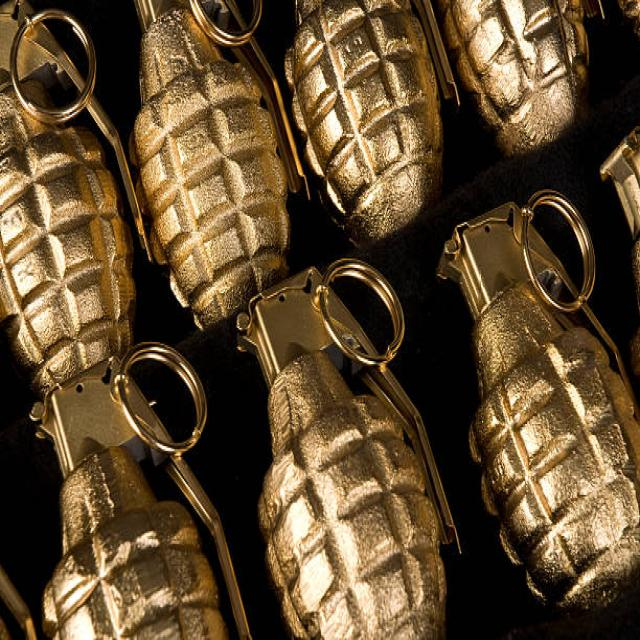grenade: (228, 258, 464, 640), (434, 187, 640, 619), (30, 341, 252, 640)
